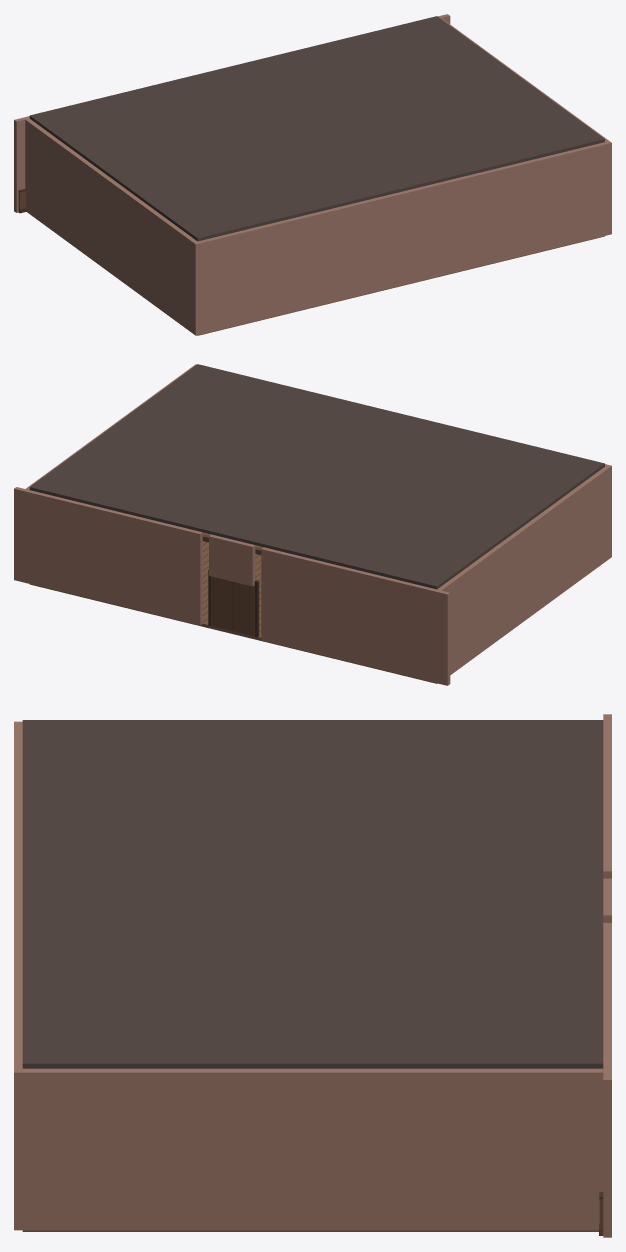
The model's file is BarShell.fbx.
3 renders of one model, top to bottom at view 1: azimuth 30°, elevation 25°; view 2: azimuth 150°, elevation 25°; view 3: azimuth 270°, elevation 25°, orthographic. The views are drawn at different scales.
Visible parts, largest first — view 1: BarShell; view 2: BarShell; view 3: BarShell.
Part boxes in pixels (bbox=[...]): BarShell: bbox=[14, 14, 611, 335]; BarShell: bbox=[14, 364, 611, 685]; BarShell: bbox=[14, 714, 611, 1237].
Bounding box in the file's own units: 29.8 × 6.4 × 20.6.
